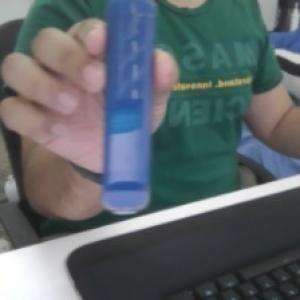Diamond-E-Ciggirate: (100, 0, 156, 220)
